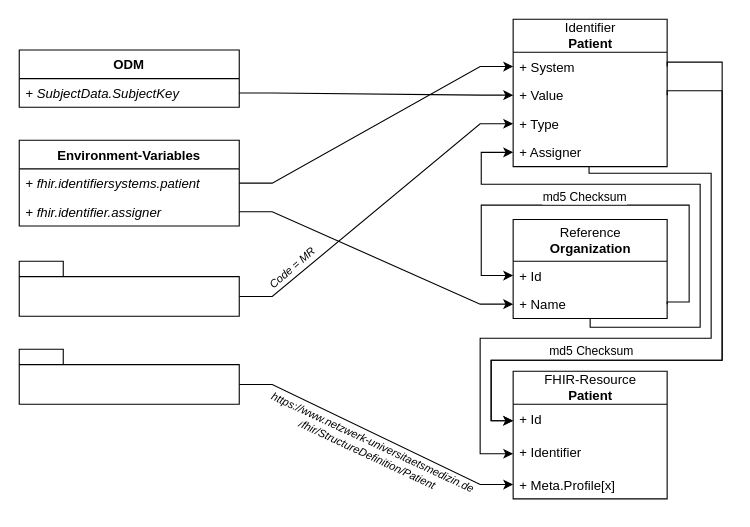
This 750x527 diagram has some shape labels left out. The shapes that lost their labels are listed below. From the top down, each one's centre as x and y in pixels, then its label:
At point 128,288: "ValueSet IdentifierTypeCodes".
At point 128,376: "GECCO Profiles".
